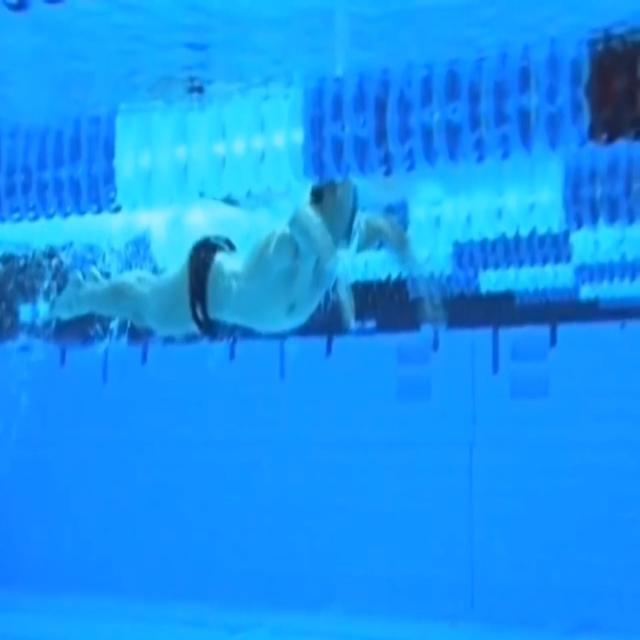Swimming: (59, 180, 412, 340)
